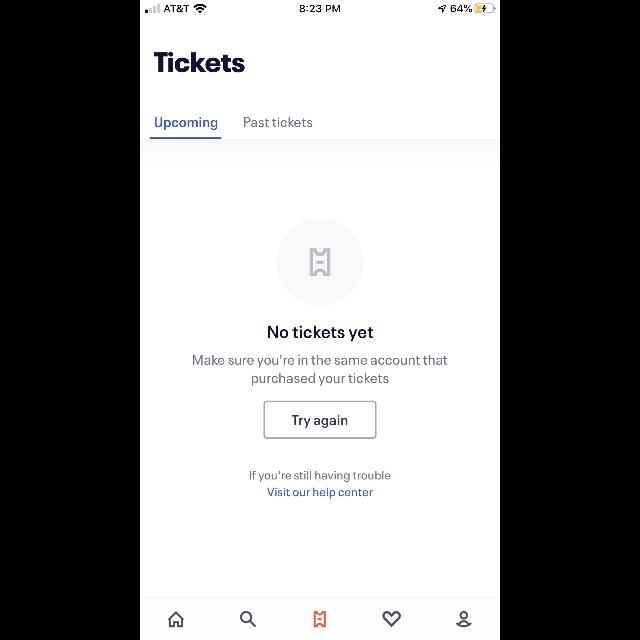icon: (276, 220, 364, 306), (168, 610, 184, 628), (383, 611, 401, 627), (240, 611, 256, 627), (456, 611, 472, 627), (314, 610, 326, 628)
text: (193, 354, 447, 386), (250, 471, 390, 499), (154, 52, 246, 72), (268, 326, 374, 342), (154, 116, 218, 130), (244, 117, 312, 127)
textbutton: (264, 401, 376, 439)
uppertaskbar: (140, 0, 500, 14)
